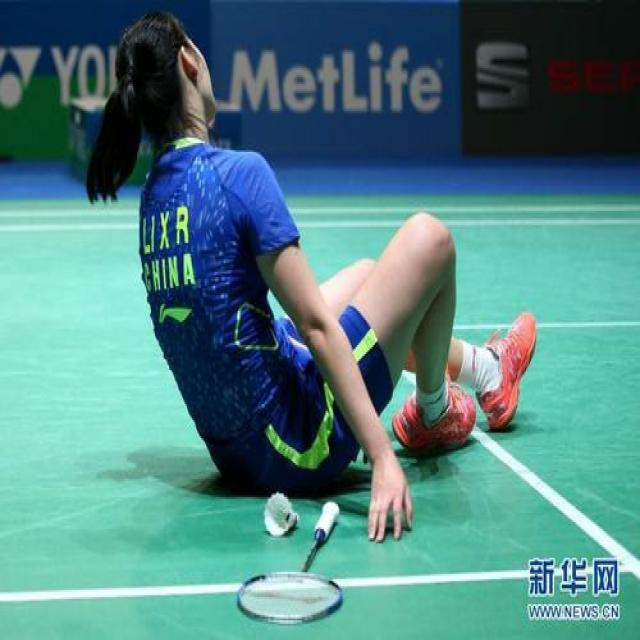fall: (100, 27, 521, 484)
